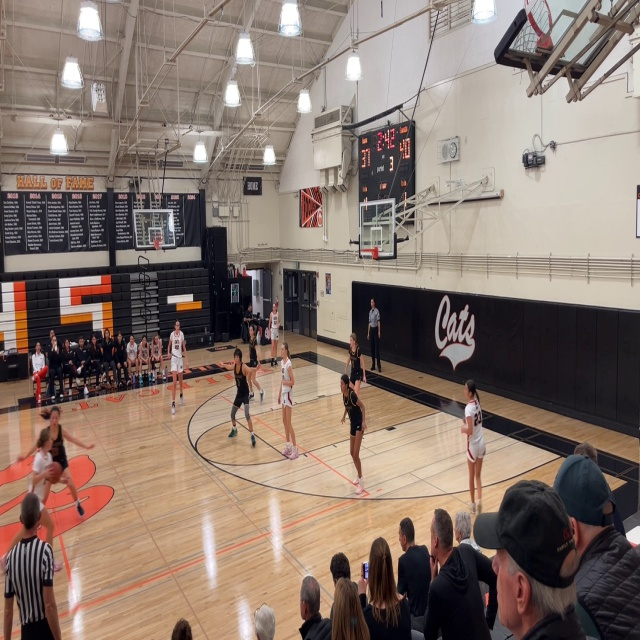Basketball: (44, 462, 62, 483)
